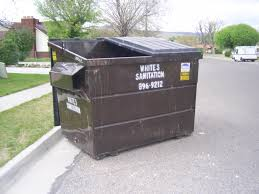Dumpster: (47, 35, 209, 162)
